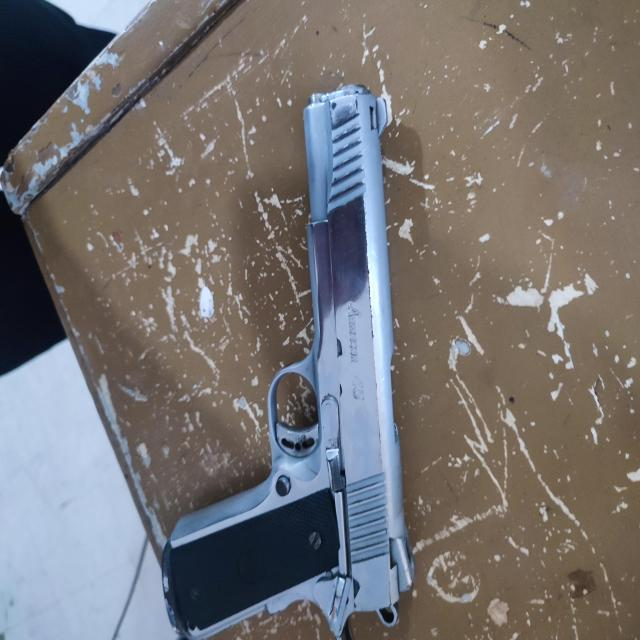pistol: (163, 85, 413, 640)
